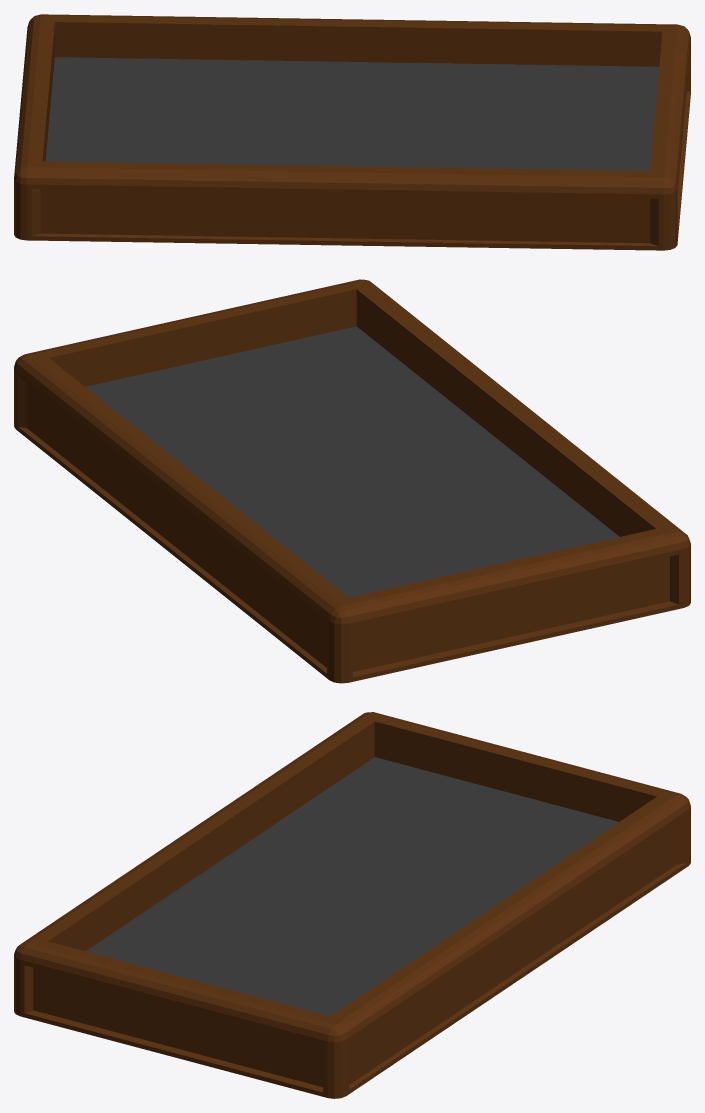
Rendered from Base Tampon.fbx.
3 renders of one model, top to bottom at view 1: azimuth 30°, elevation 25°; view 2: azimuth 150°, elevation 25°; view 3: azimuth 270°, elevation 25°, orthographic. The views are drawn at different scales.
Visible parts, largest first — view 1: Base Tampon; view 2: Base Tampon; view 3: Base Tampon.
Boxes of the visible parts, x1,y1,x2,y2 form: Base Tampon: [14, 14, 690, 250]; Base Tampon: [14, 279, 690, 683]; Base Tampon: [14, 712, 690, 1098].
Size of the model in its own units: 21.57 by 2.12 by 19.08.
